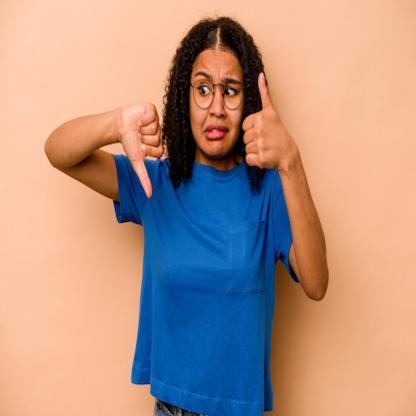thumb_down: (117, 96, 165, 200)
thumb_up: (236, 70, 292, 174)
